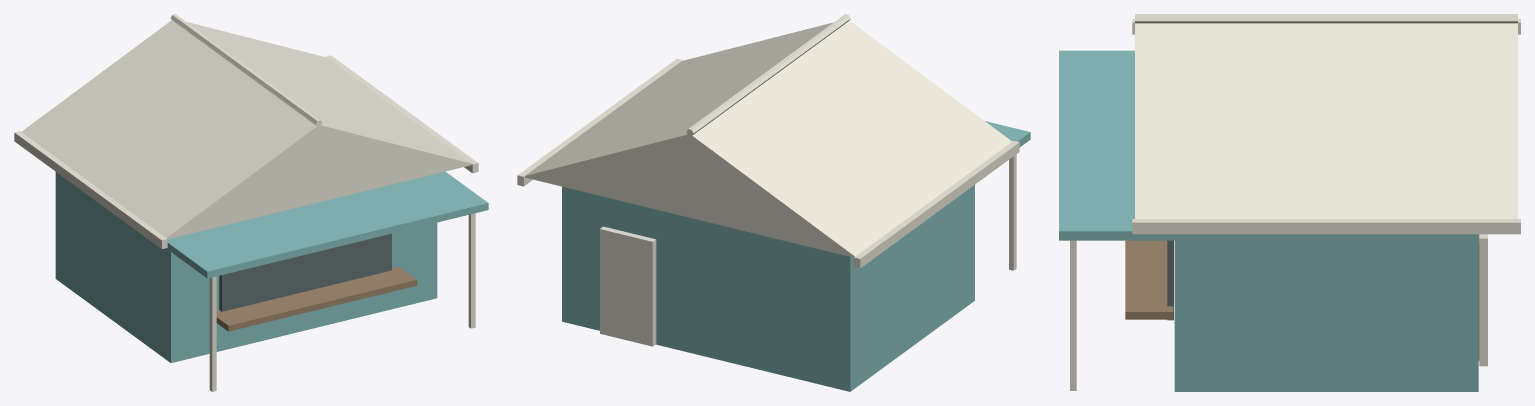
3 views of the same model, side by side, from view 1: azimuth 30°, elevation 25°; view 2: azimuth 150°, elevation 25°; view 3: azimuth 270°, elevation 25° (orthographic). The views are drawn at different scales.
Size of the model in its own units: 8.56 by 5.71 by 8.2.
